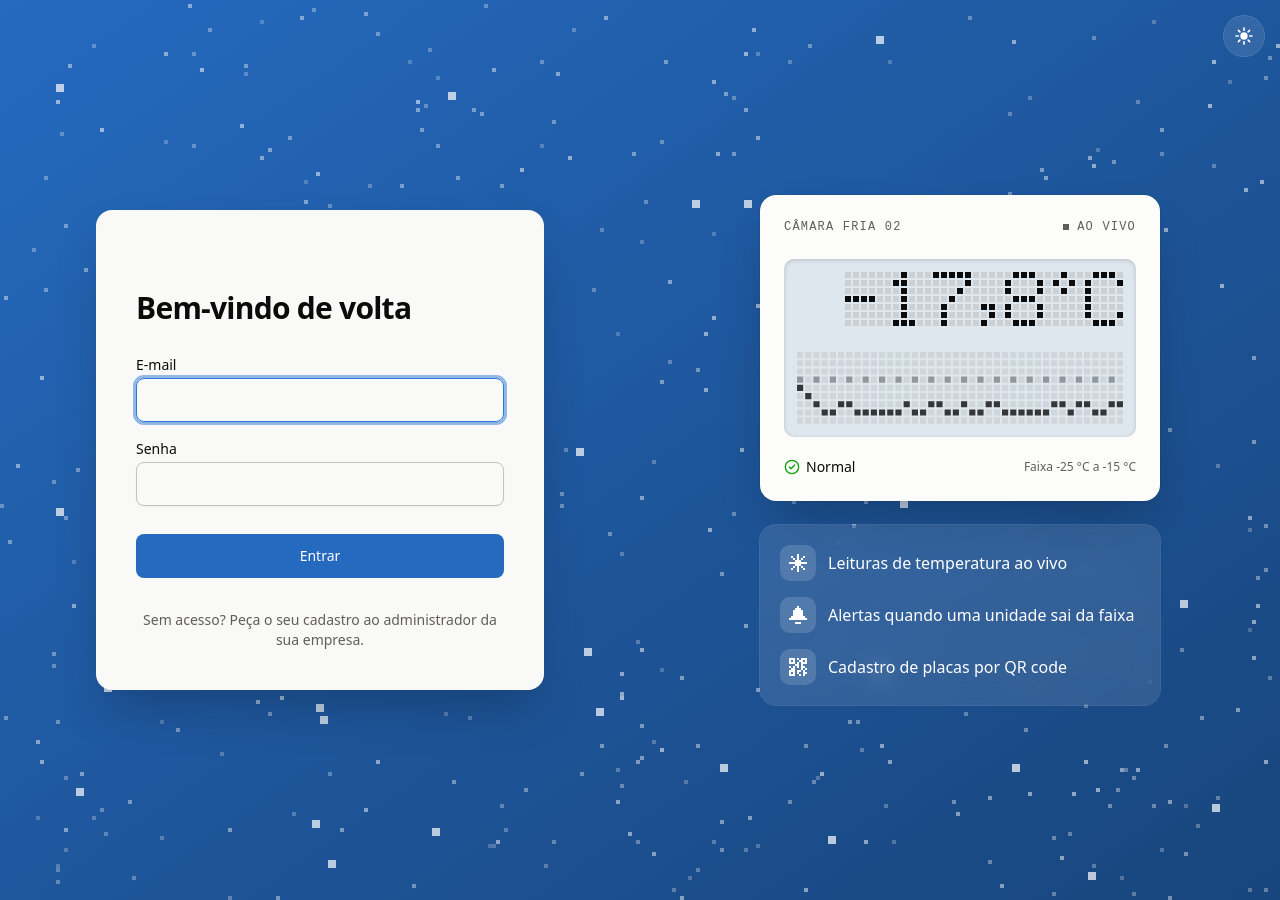
Test: LoginPage › valida os campos antes de chamar a API
The image size is (1280, 900).
Type "invalido" into the field labelled "E-mail". click: [320, 400]
box: 136,378 -> 504,422
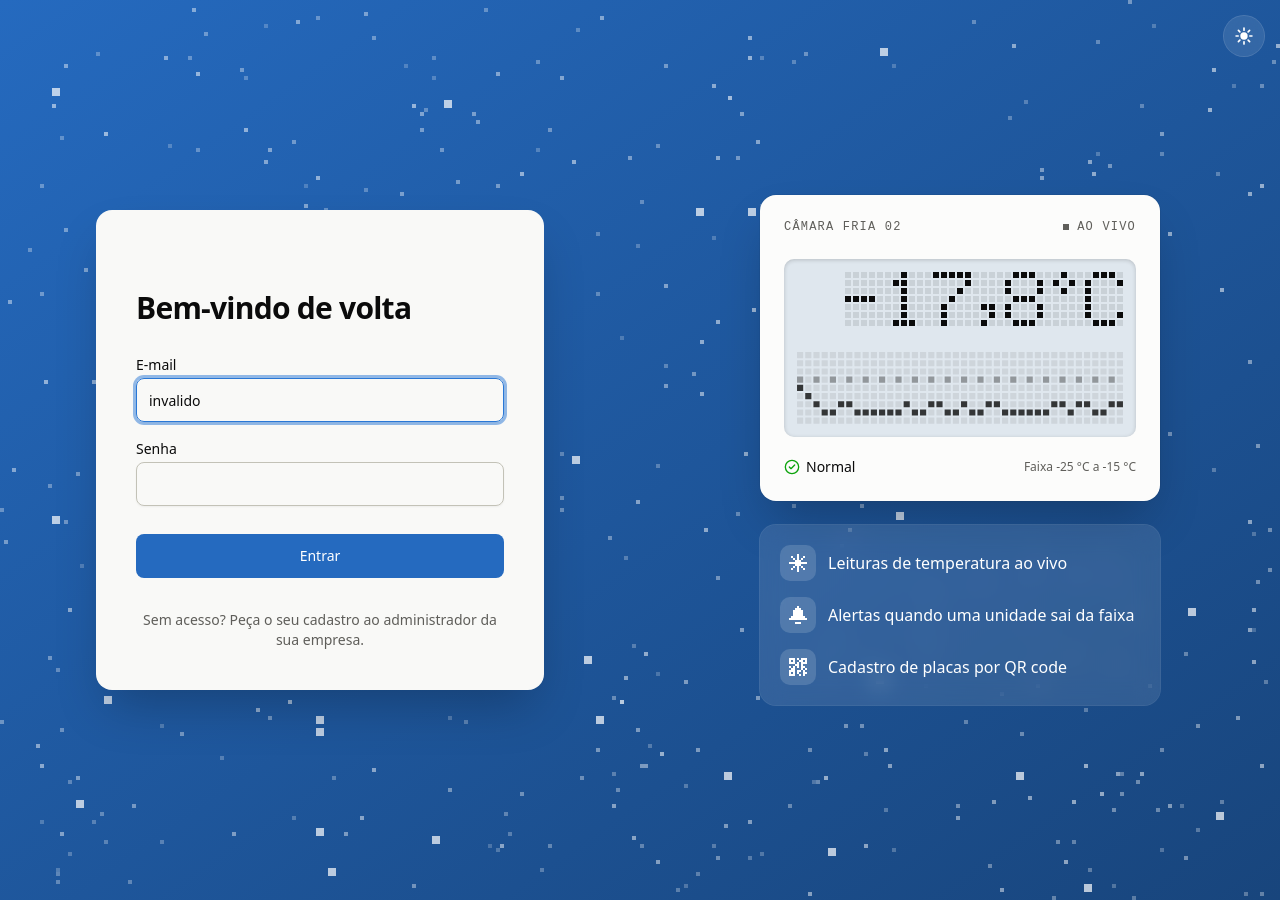
Type "x" into the password field labelled "Senha". click: [320, 484]
box: 136,462 -> 504,506
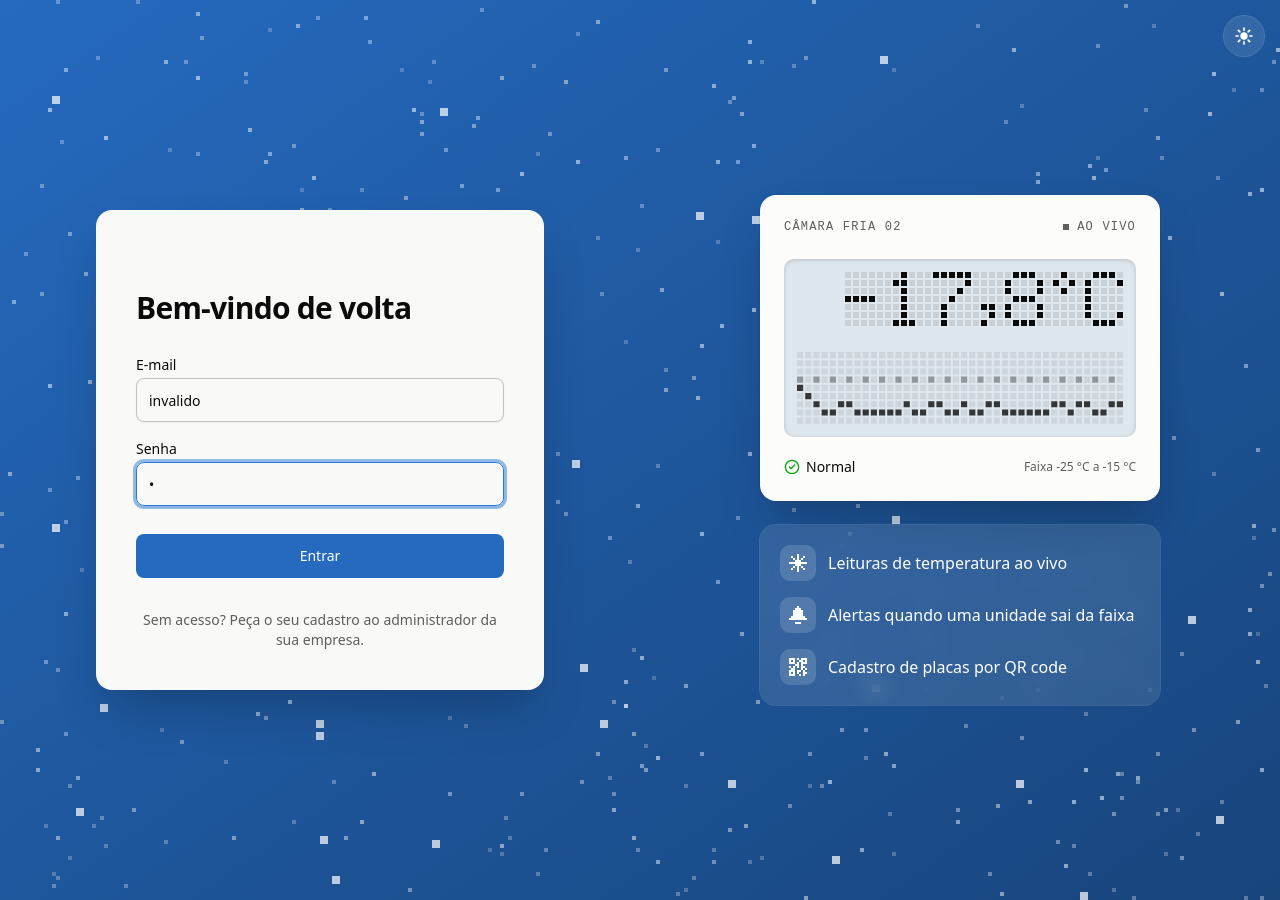
Click the button "Entrar". click: [320, 556]
box: 136,534 -> 504,578
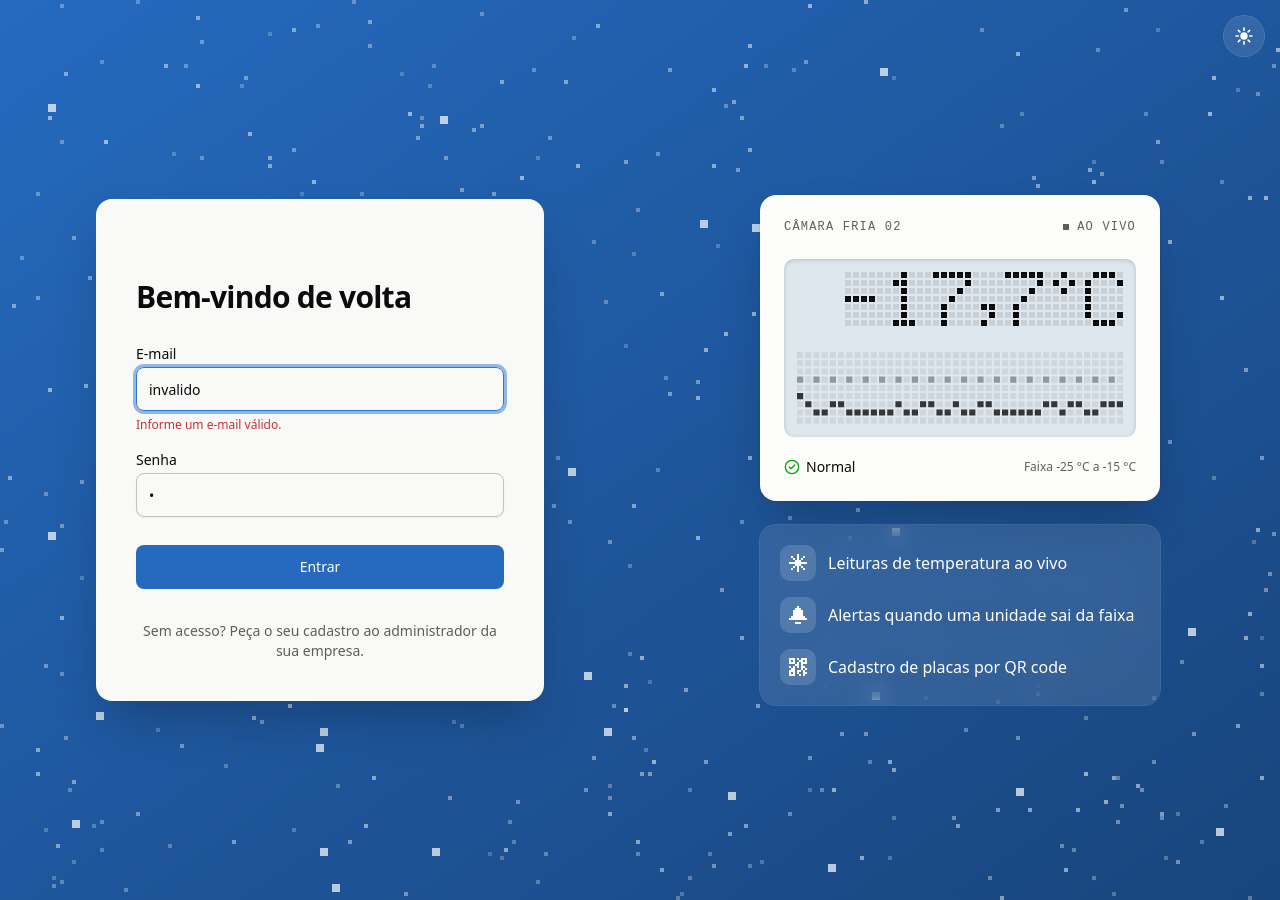
expect the text "Informe um e-mail válido." is shown: met, box 136,416 -> 282,433
